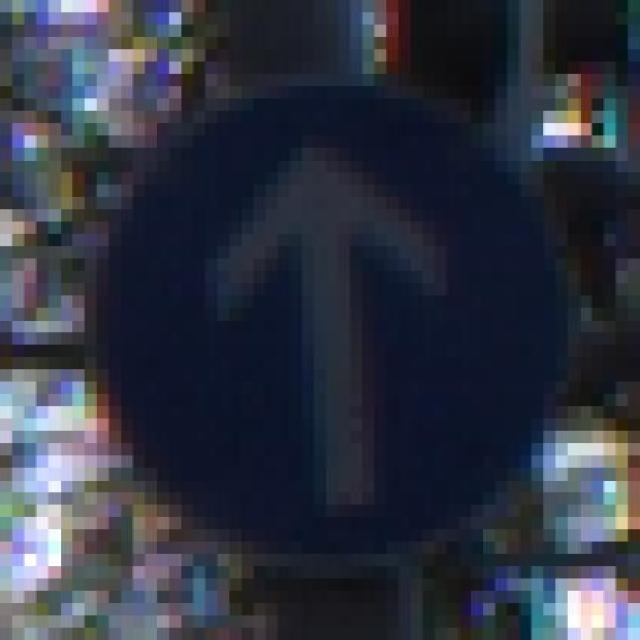Straight Ahead Only: (60, 61, 580, 578)
